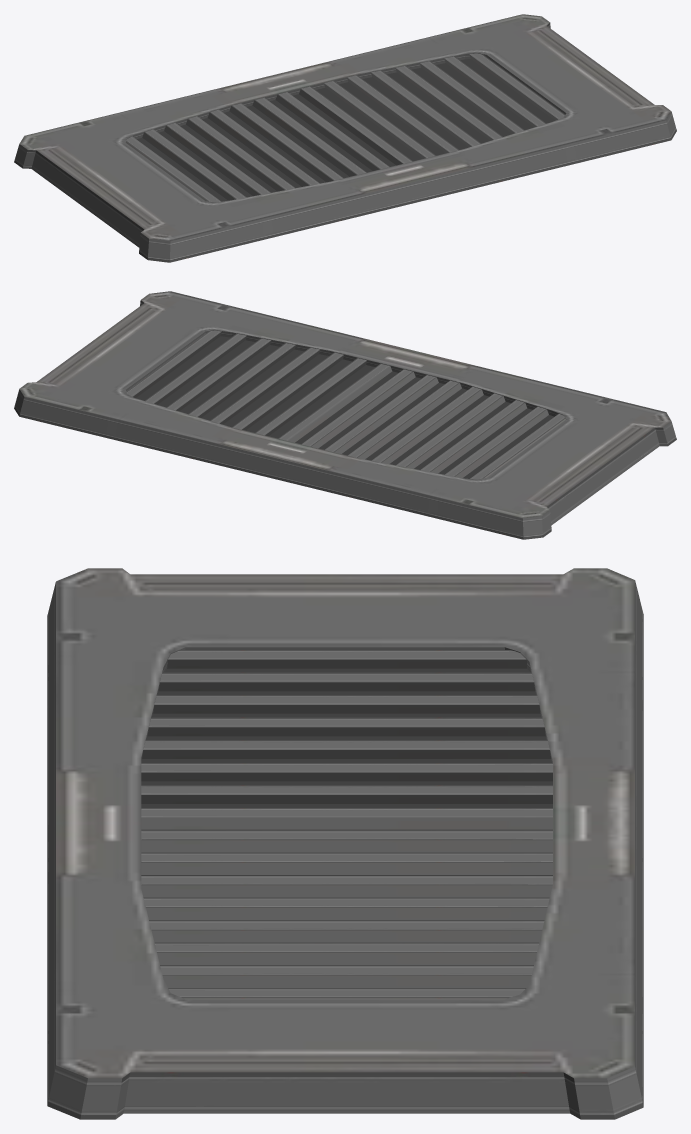
The model's file is bouche-large.glb.
3 views of the same model, one above another, from view 1: azimuth 30°, elevation 25°; view 2: azimuth 150°, elevation 25°; view 3: azimuth 270°, elevation 25° (orthographic). The views are drawn at different scales.
Parts seen in each view (by area): view 1: Prop_Vent_Big; view 2: Prop_Vent_Big; view 3: Prop_Vent_Big.
Boxes of the visible parts, x1=… form: Prop_Vent_Big: x1=14, y1=14, x2=676, y2=262; Prop_Vent_Big: x1=14, y1=291, x2=676, y2=539; Prop_Vent_Big: x1=47, y1=568, x2=643, y2=1119.
Bounding box in the file's own units: 2 × 0.0687 × 0.9764.
2 materials, 2 textured.
